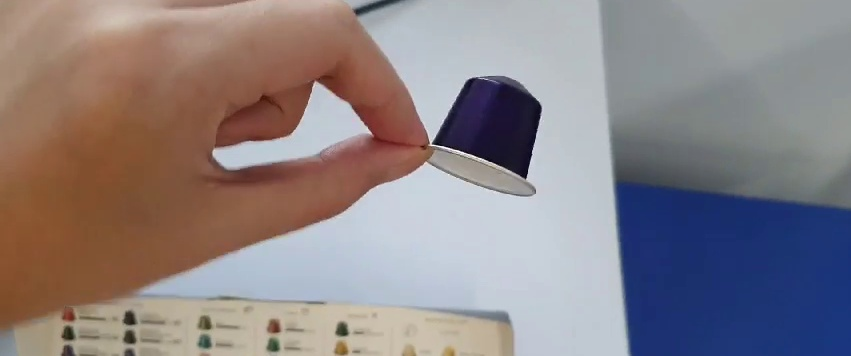capsule_11: (424, 70, 547, 204)
